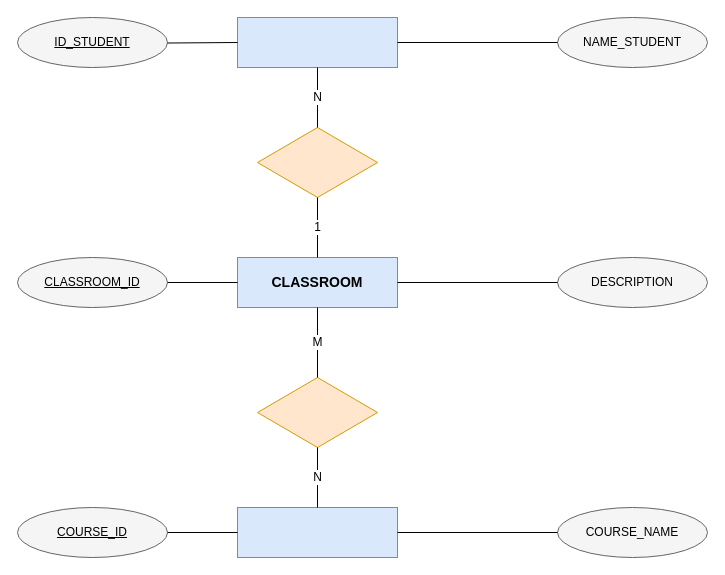
Image size: 725x575. Some labels were removed from this diagram. Here are the shapes that lost their labels. From the top down, the box of each, then its label:
(236, 16, 398, 68): STUDENT
(256, 126, 378, 198): BELONGS_TO
(256, 376, 378, 448): OFFERS
(236, 506, 398, 558): COURSE
